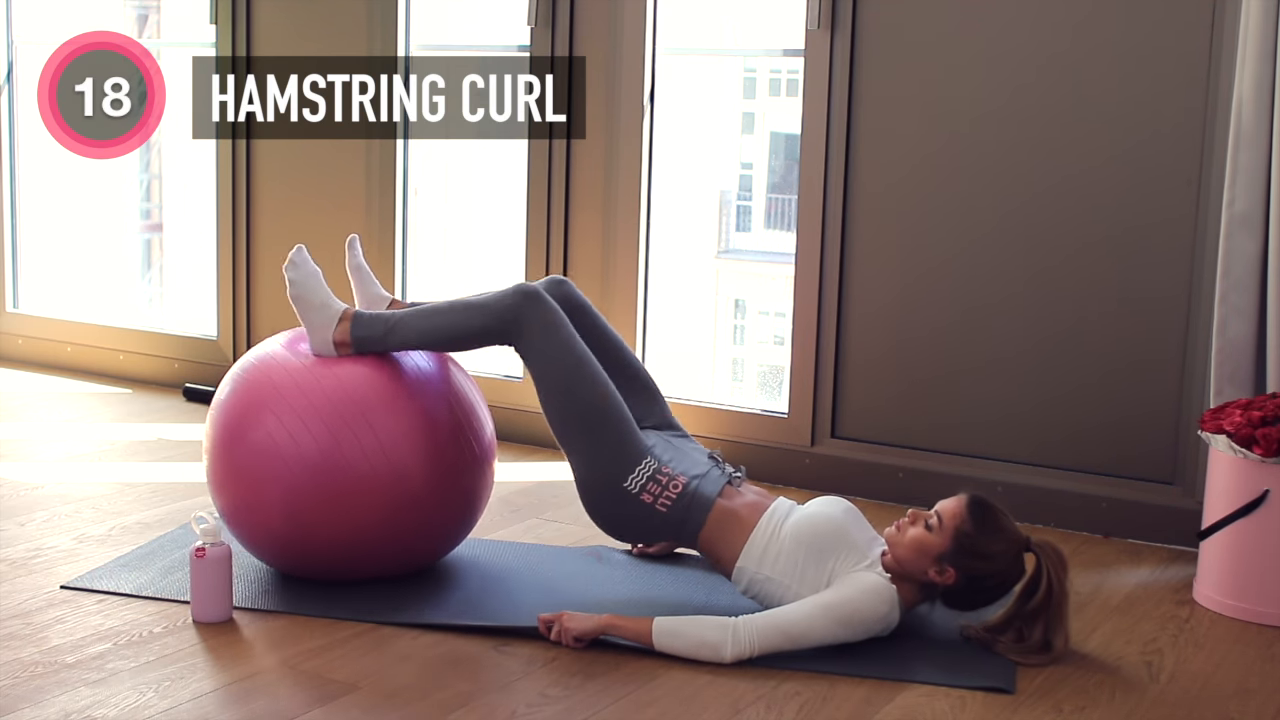yogaball: (193, 319, 507, 594)
